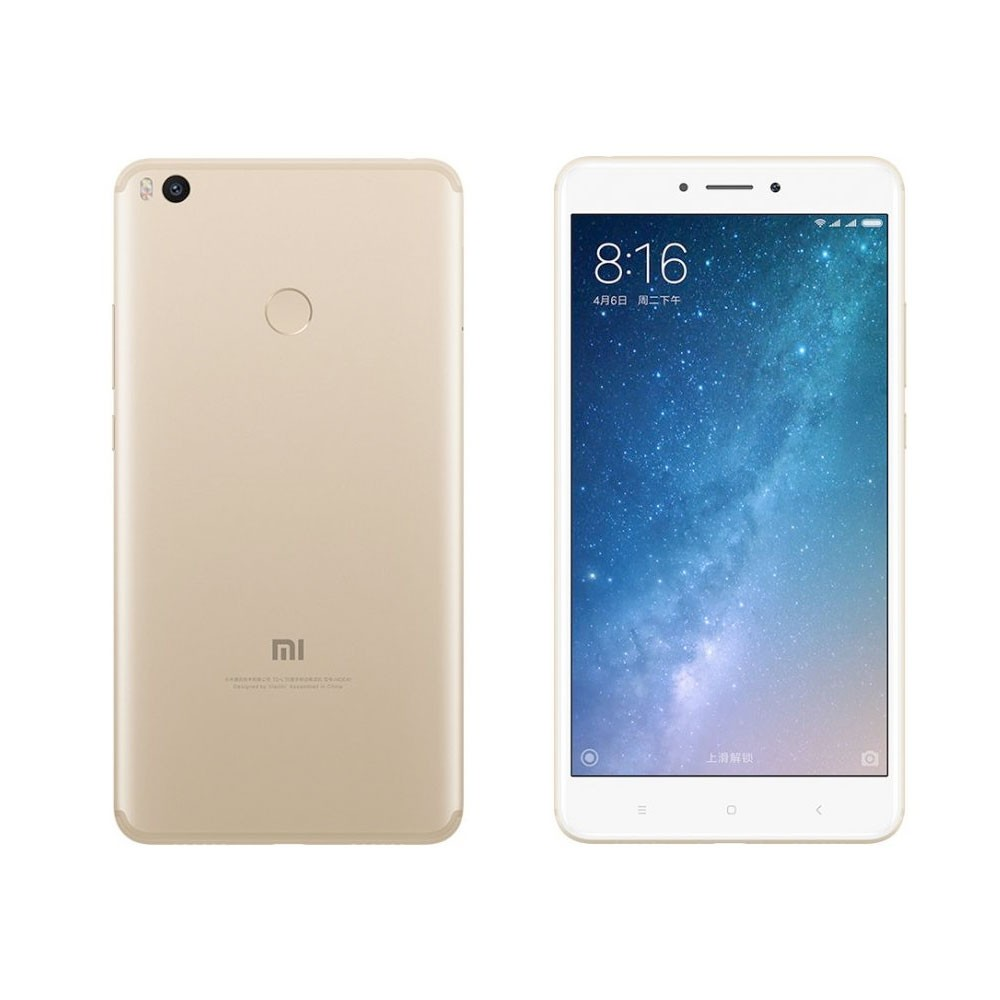smartphone: (553, 155, 907, 842), (113, 158, 465, 845)
